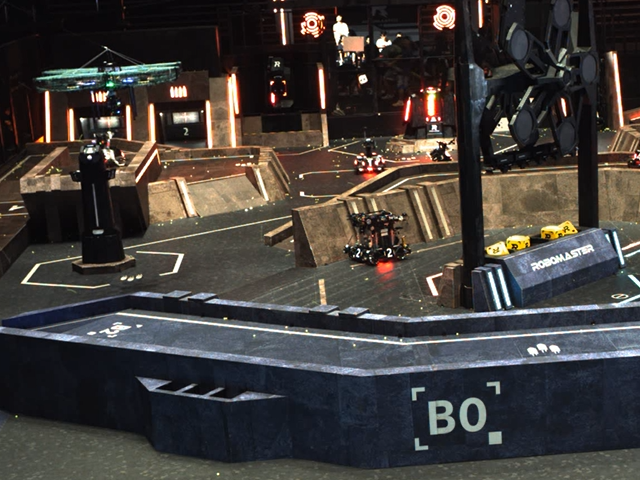rm: (37, 51, 182, 92), (349, 208, 410, 265), (354, 138, 387, 173), (90, 134, 122, 167), (429, 142, 455, 161)
